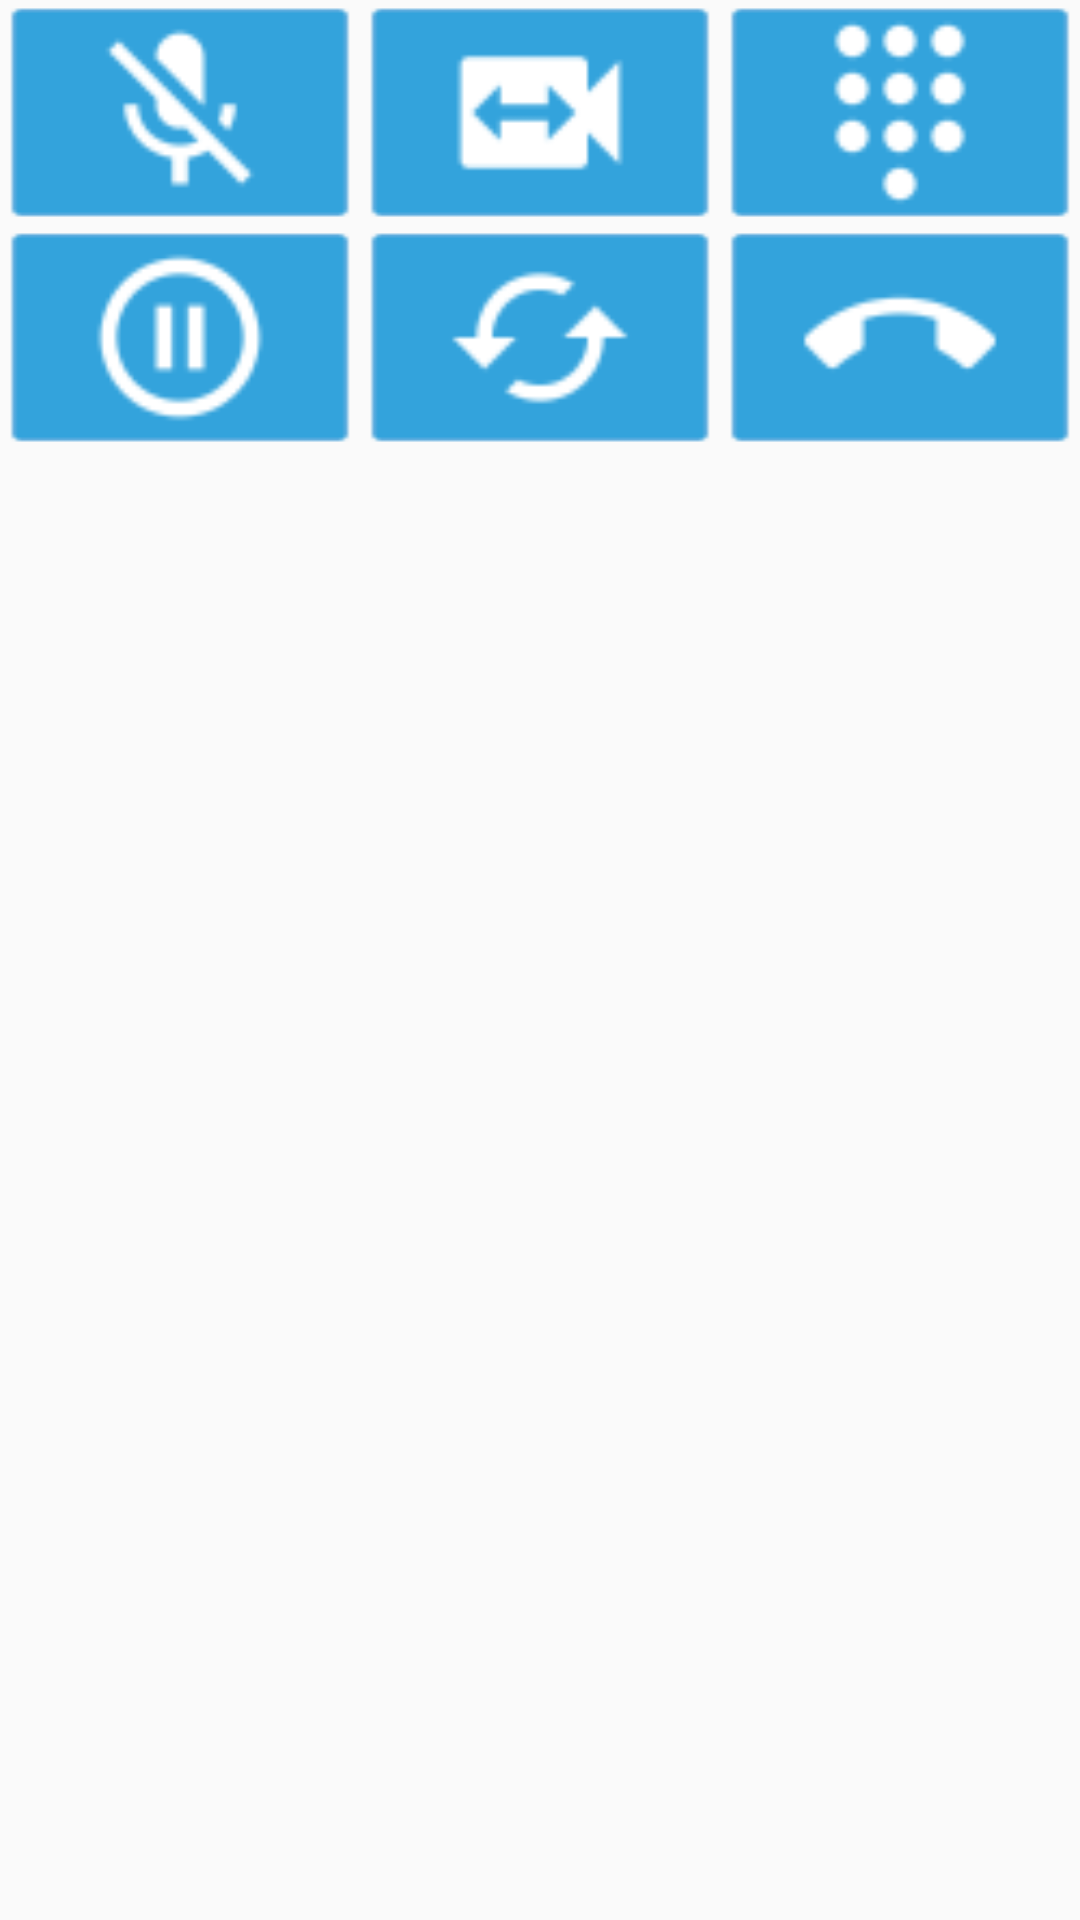

Icons on this 1080px x 1920px Android screen, each with the point to tap as (x=x, y=y):
call dialpad: (x=900, y=112)
call end: (x=900, y=337)
call hold: (x=180, y=337)
call mute: (x=180, y=112)
call switch: (x=540, y=337)
call switch video: (x=540, y=112)
